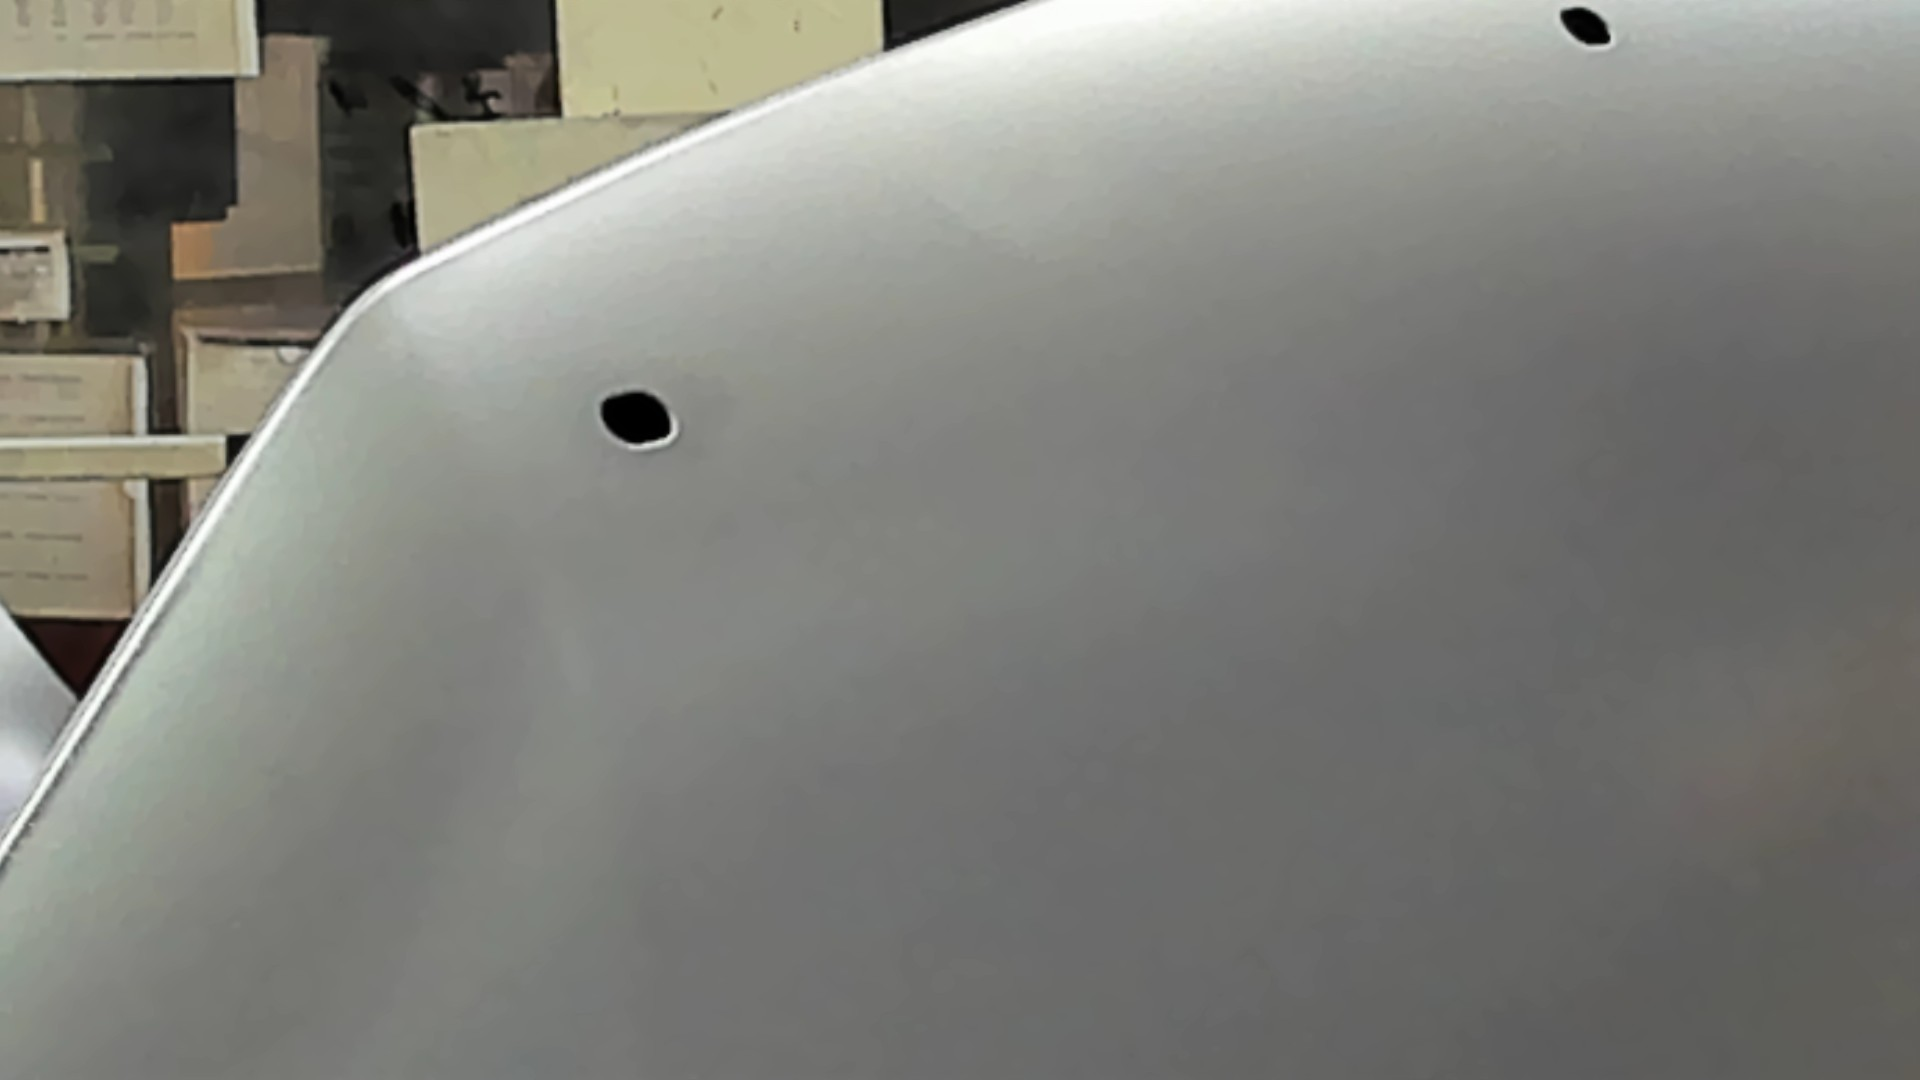amorfo: (589, 382, 684, 458), (1555, 1, 1618, 54)
capo: (843, 92, 1920, 1080)
